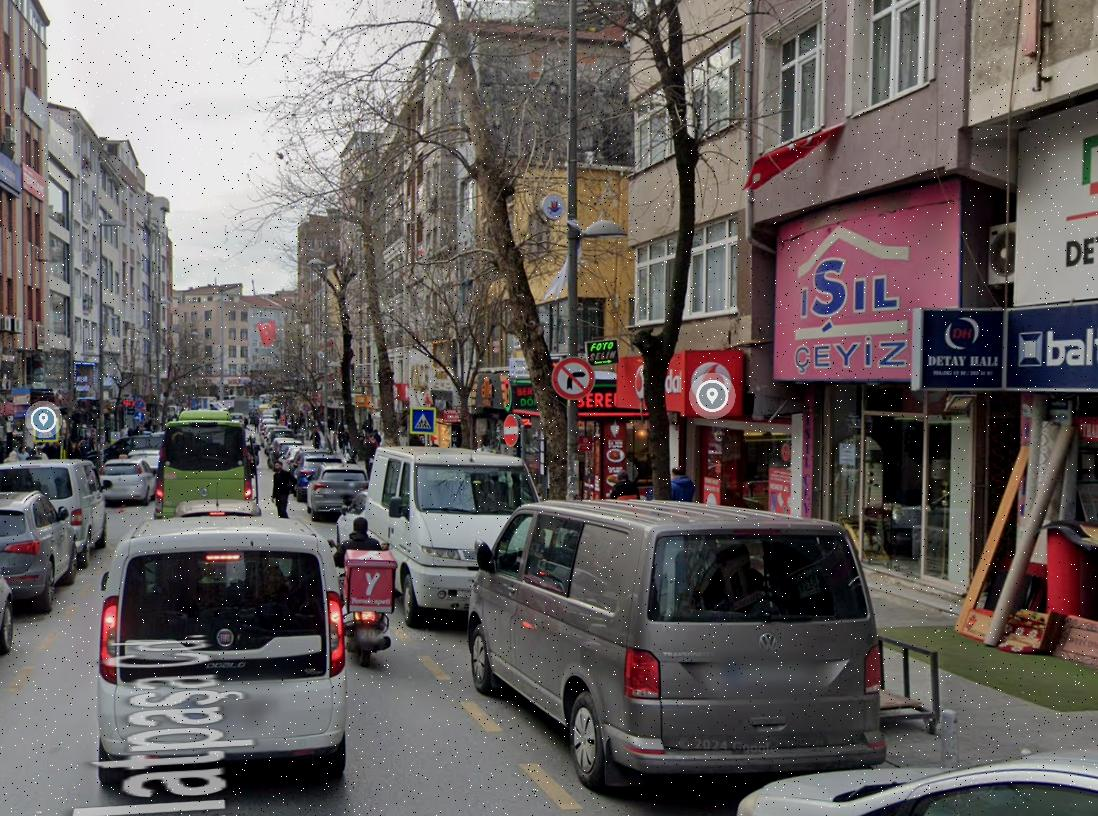rightturnsareforbidden: (552, 356, 600, 401)
